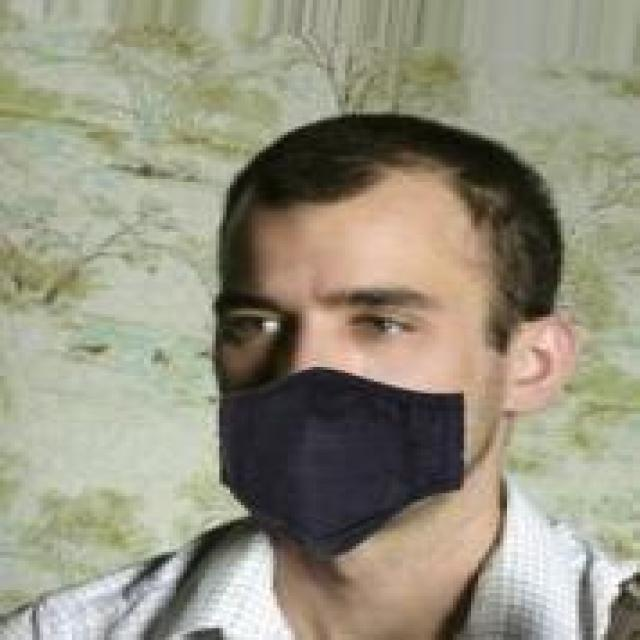mask: (198, 100, 590, 531)
